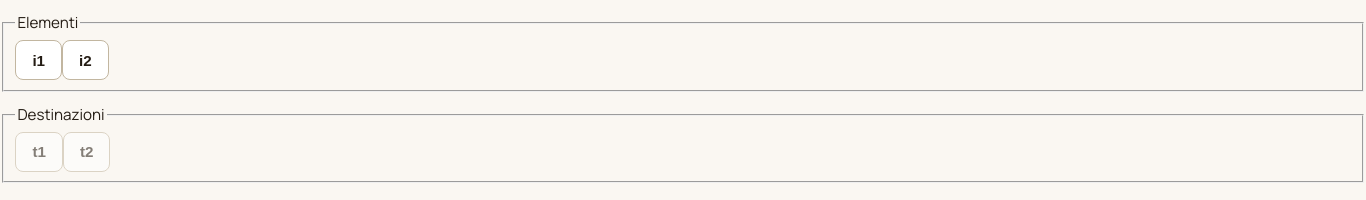
it: DragAndDropView — select-source-then-destination (no native drag required) › target buttons become enabled once an item is selected
Click the button "i1": (39, 60) 15,40 -> 62,80
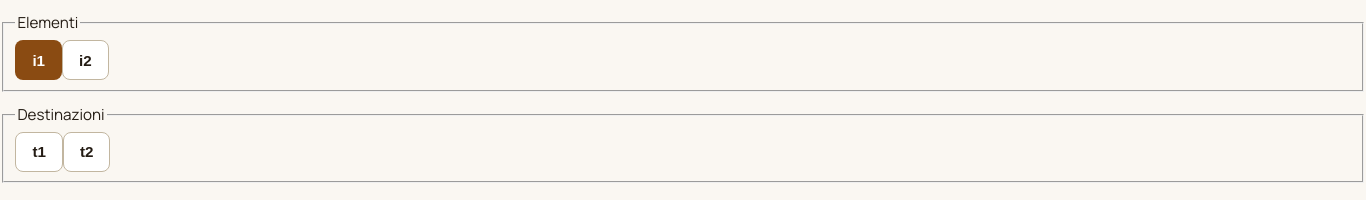
Result: the button "t1" is enabled at 15,132 -> 63,172
